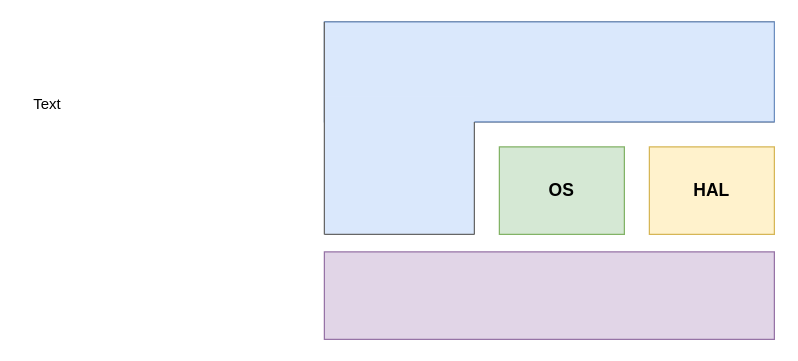
This 798x361 diagram has some shape labels left out. The box of each missing label's shape, as (x1, y1, x2, y2) in pixels:
APPLICATION: (323, 21, 774, 122)
MCAL: (323, 251, 774, 339)
